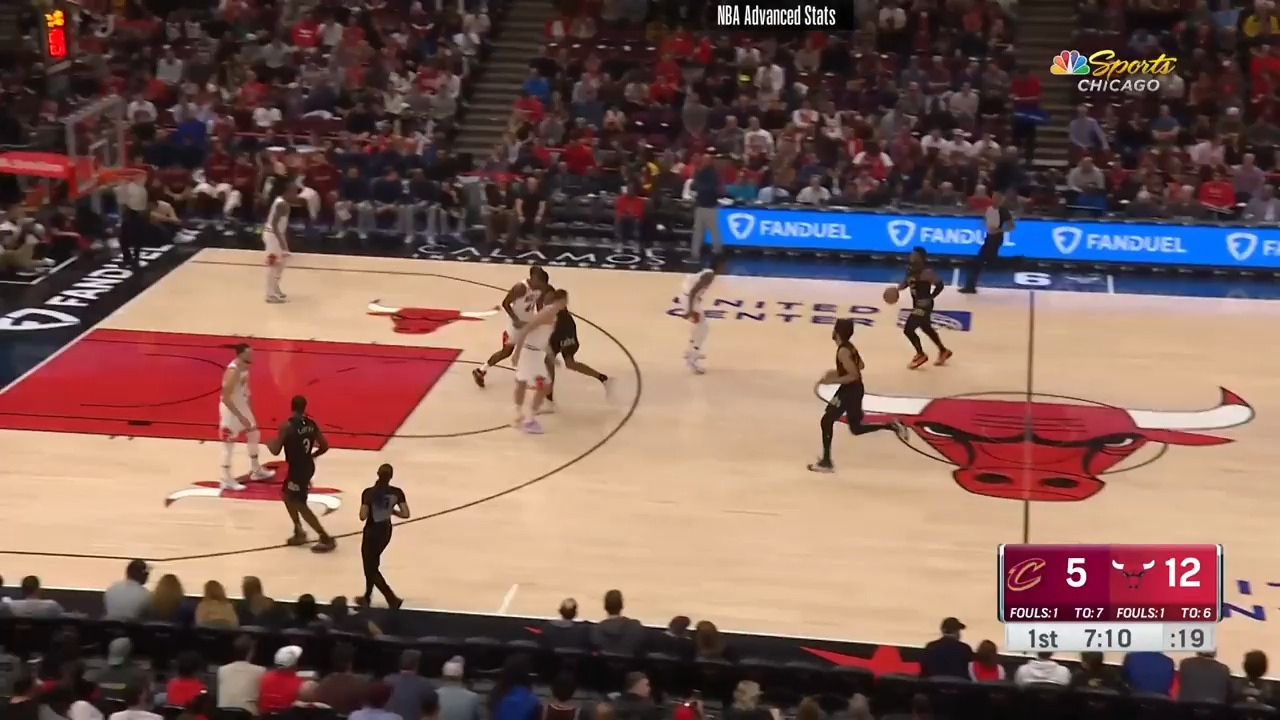net: (99, 157, 146, 205)
player: (807, 319, 926, 477), (508, 283, 613, 440), (259, 393, 337, 559), (883, 246, 963, 376), (469, 266, 550, 393), (218, 336, 278, 485), (260, 171, 314, 307), (681, 256, 726, 376)
referee: (353, 461, 416, 611), (974, 185, 1021, 292), (117, 169, 154, 274)
